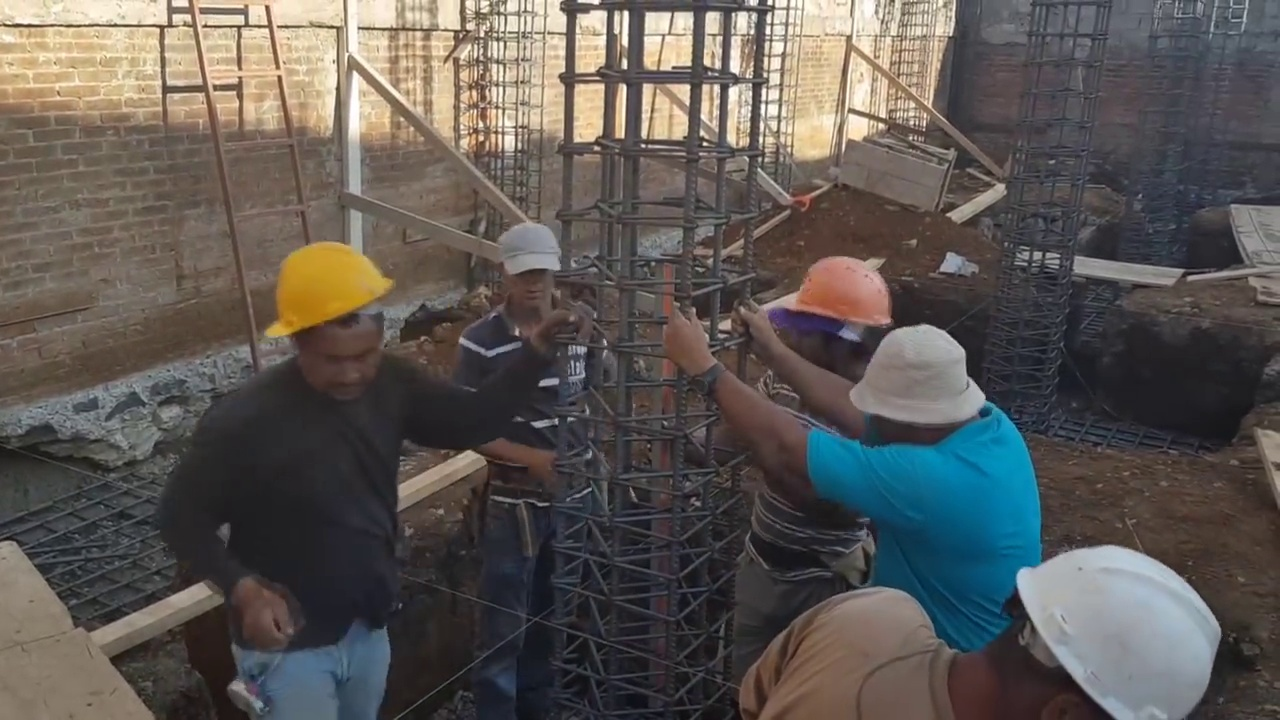helmet: (1031, 551, 1224, 710), (262, 237, 399, 344), (768, 257, 891, 334)
helmet-off: (848, 330, 992, 456)
helmet-on: (940, 557, 1228, 712), (264, 236, 398, 406), (755, 257, 904, 384), (492, 224, 571, 331)
person: (172, 227, 573, 720), (660, 279, 1034, 649), (732, 552, 1228, 717), (733, 250, 906, 629), (423, 213, 592, 531)
